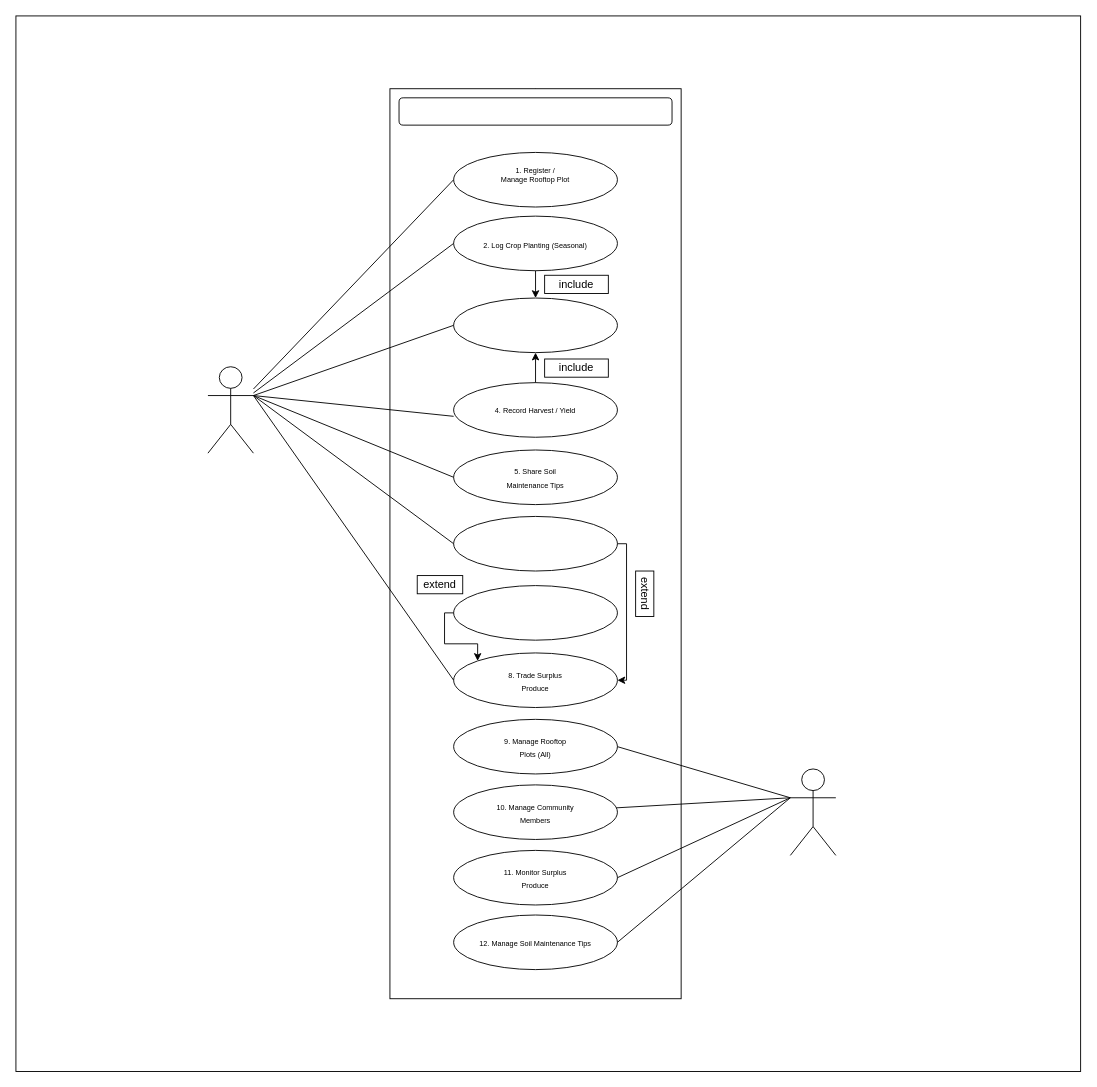
The diagram is 1097 pixels wide and 1087 high, and some of its shapes have lost their labels. Here are the shapes that lost their labels. From the top down, the centre of each, then its label:
point (535, 111): Urban Rooftop Gardening Co-op App Use Case Diagram
point (535, 325): 3. Calculate Harvest Window & Expected Yield
point (230, 409): Co-op Gardener
point (535, 543): 6. Create Surplus Produce Listing
point (535, 612): 7. Manage Surplus Listing
point (812, 811): Community Leader
